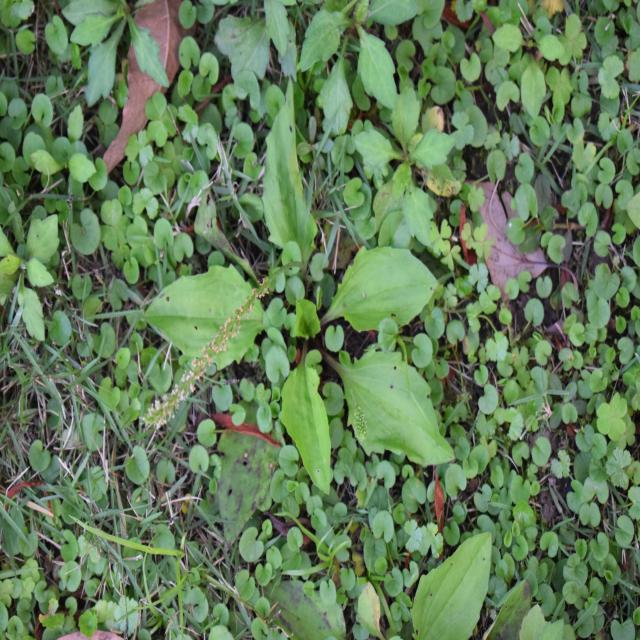plantain: (170, 163, 463, 488)
